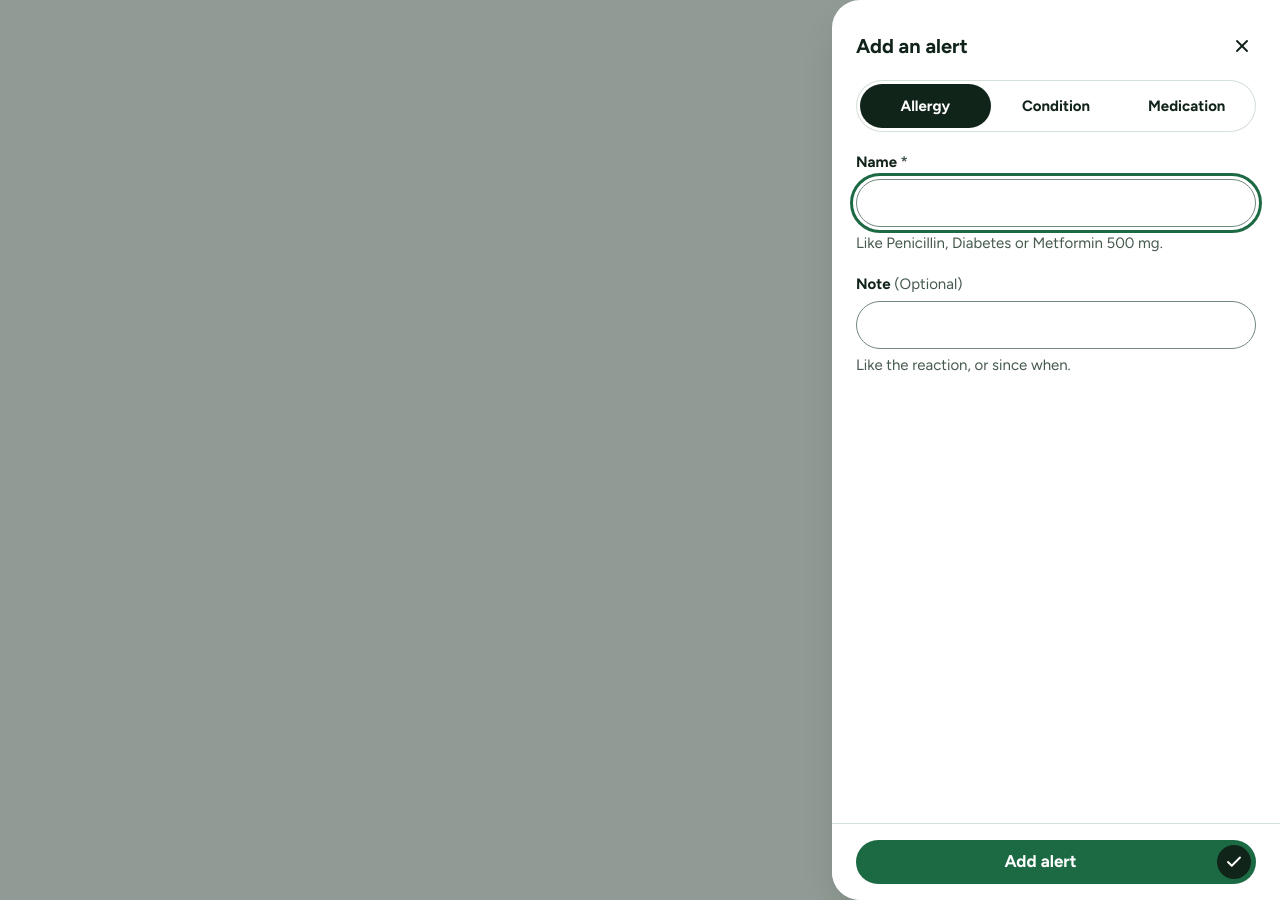
Test case: AlertSheet adding an alert (plan §10.4) › says a refusal, and keeps what was typed
Type "Penicillin" into the field labelled "Name *" at (1056, 203), box [856,179,1256,227]
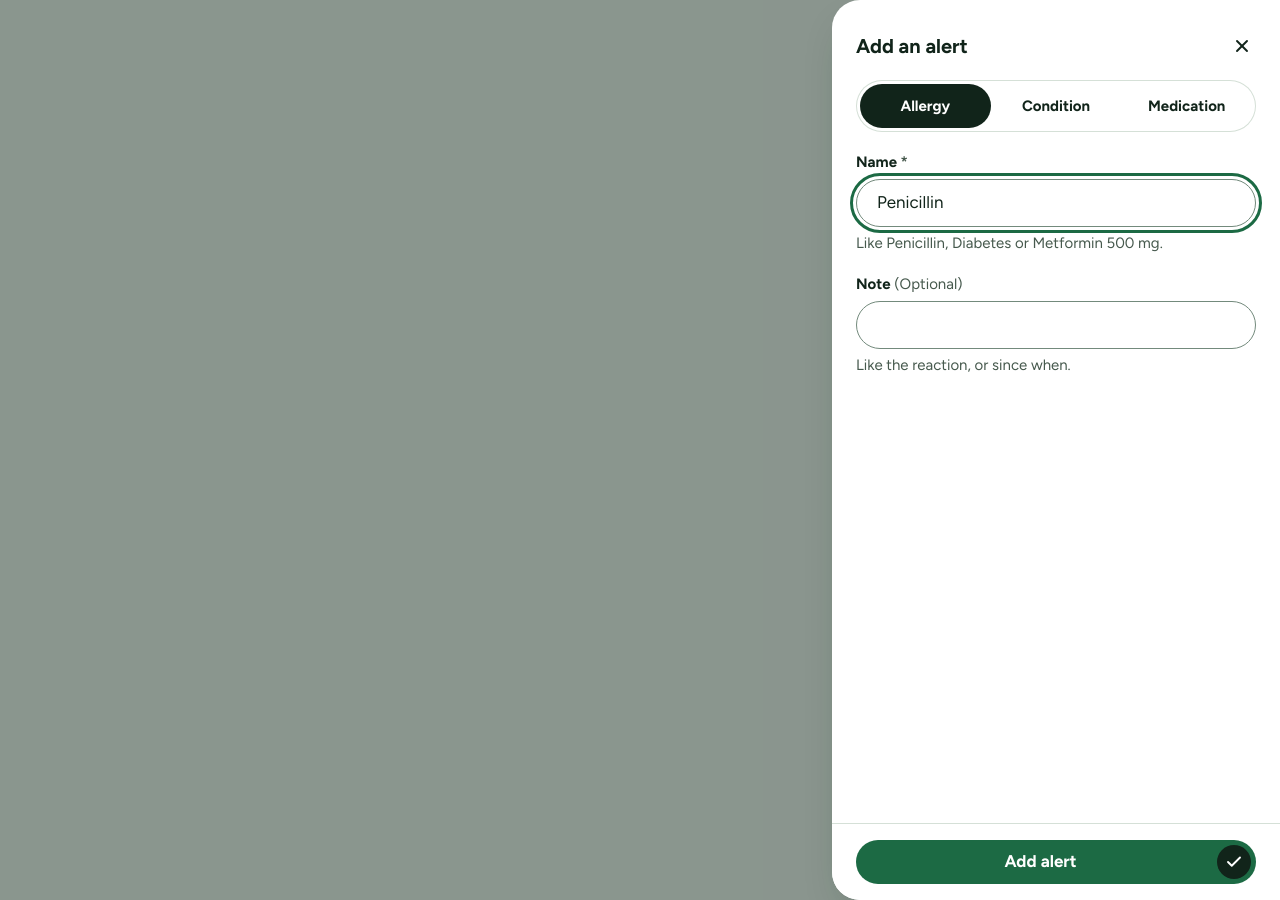
Click the button "Add alert" at (1056, 862), box [856,840,1256,884]
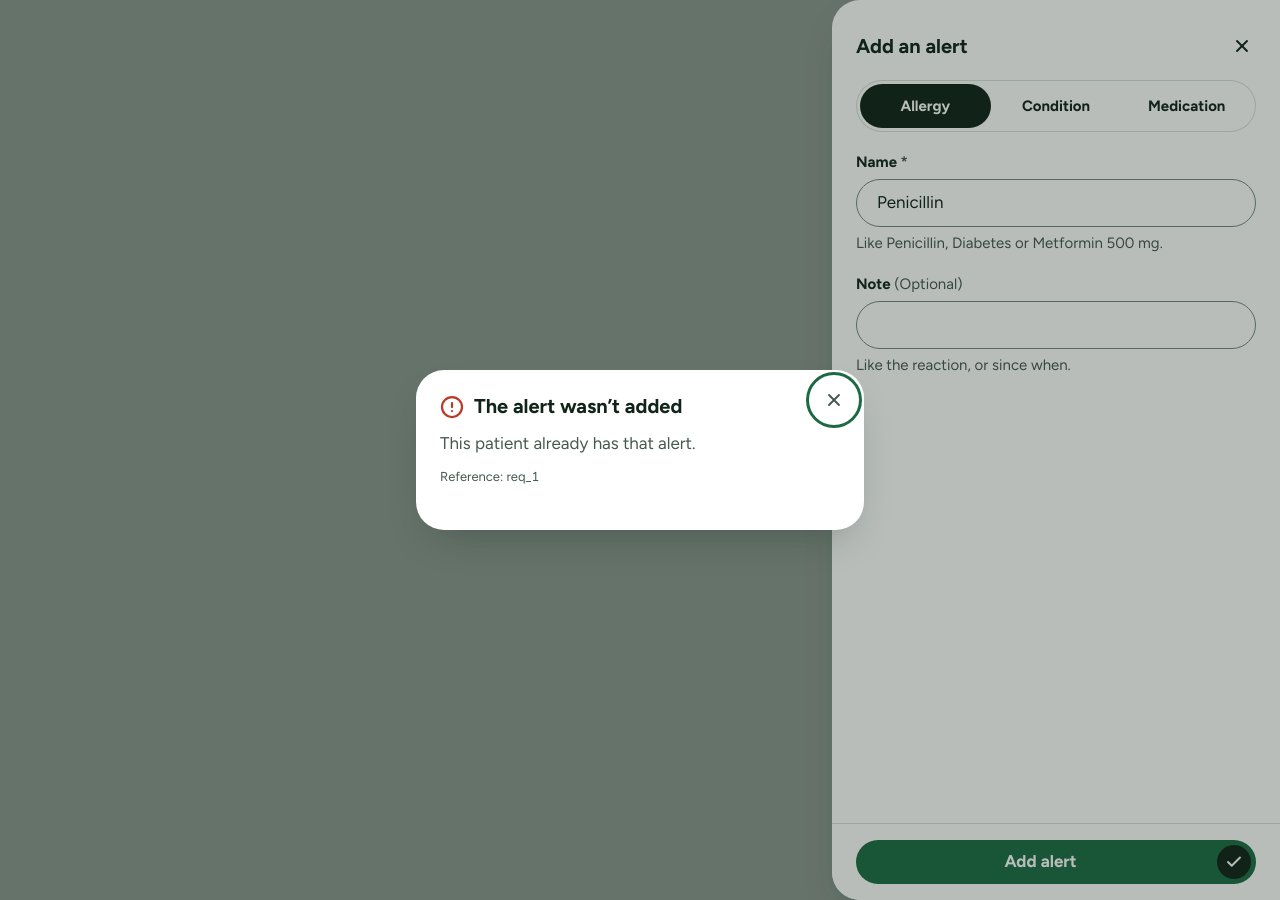
Expected: the heading "The alert wasn’t added" is shown, [474,394,682,419]
